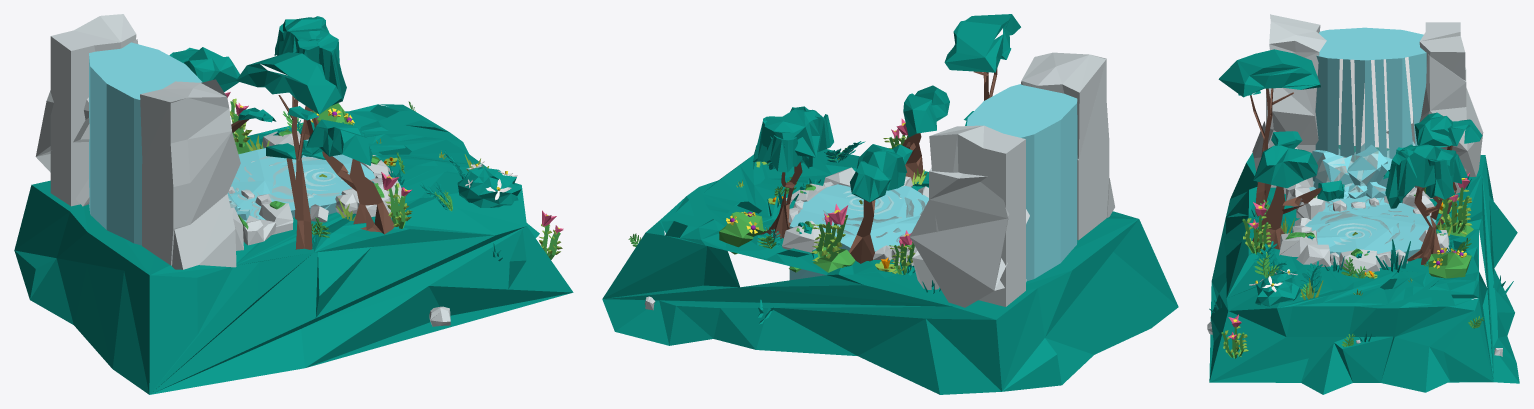
Rendered from waterfall.glb.
The picture shows the model from 3 angles, left to right: view 1: azimuth 30°, elevation 25°; view 2: azimuth 150°, elevation 25°; view 3: azimuth 270°, elevation 25°; orthographic projection. The views are drawn at different scales.
Parts seen in each view (by area): view 1: Node; view 2: Node; view 3: Node.
Part boxes in pixels (box(x1,y1,x2,y2)): Node: box(14, 14, 573, 394); Node: box(602, 14, 1178, 394); Node: box(1207, 14, 1519, 394).
Size of the model in its own units: 2.93 by 1.7 by 2.06.
